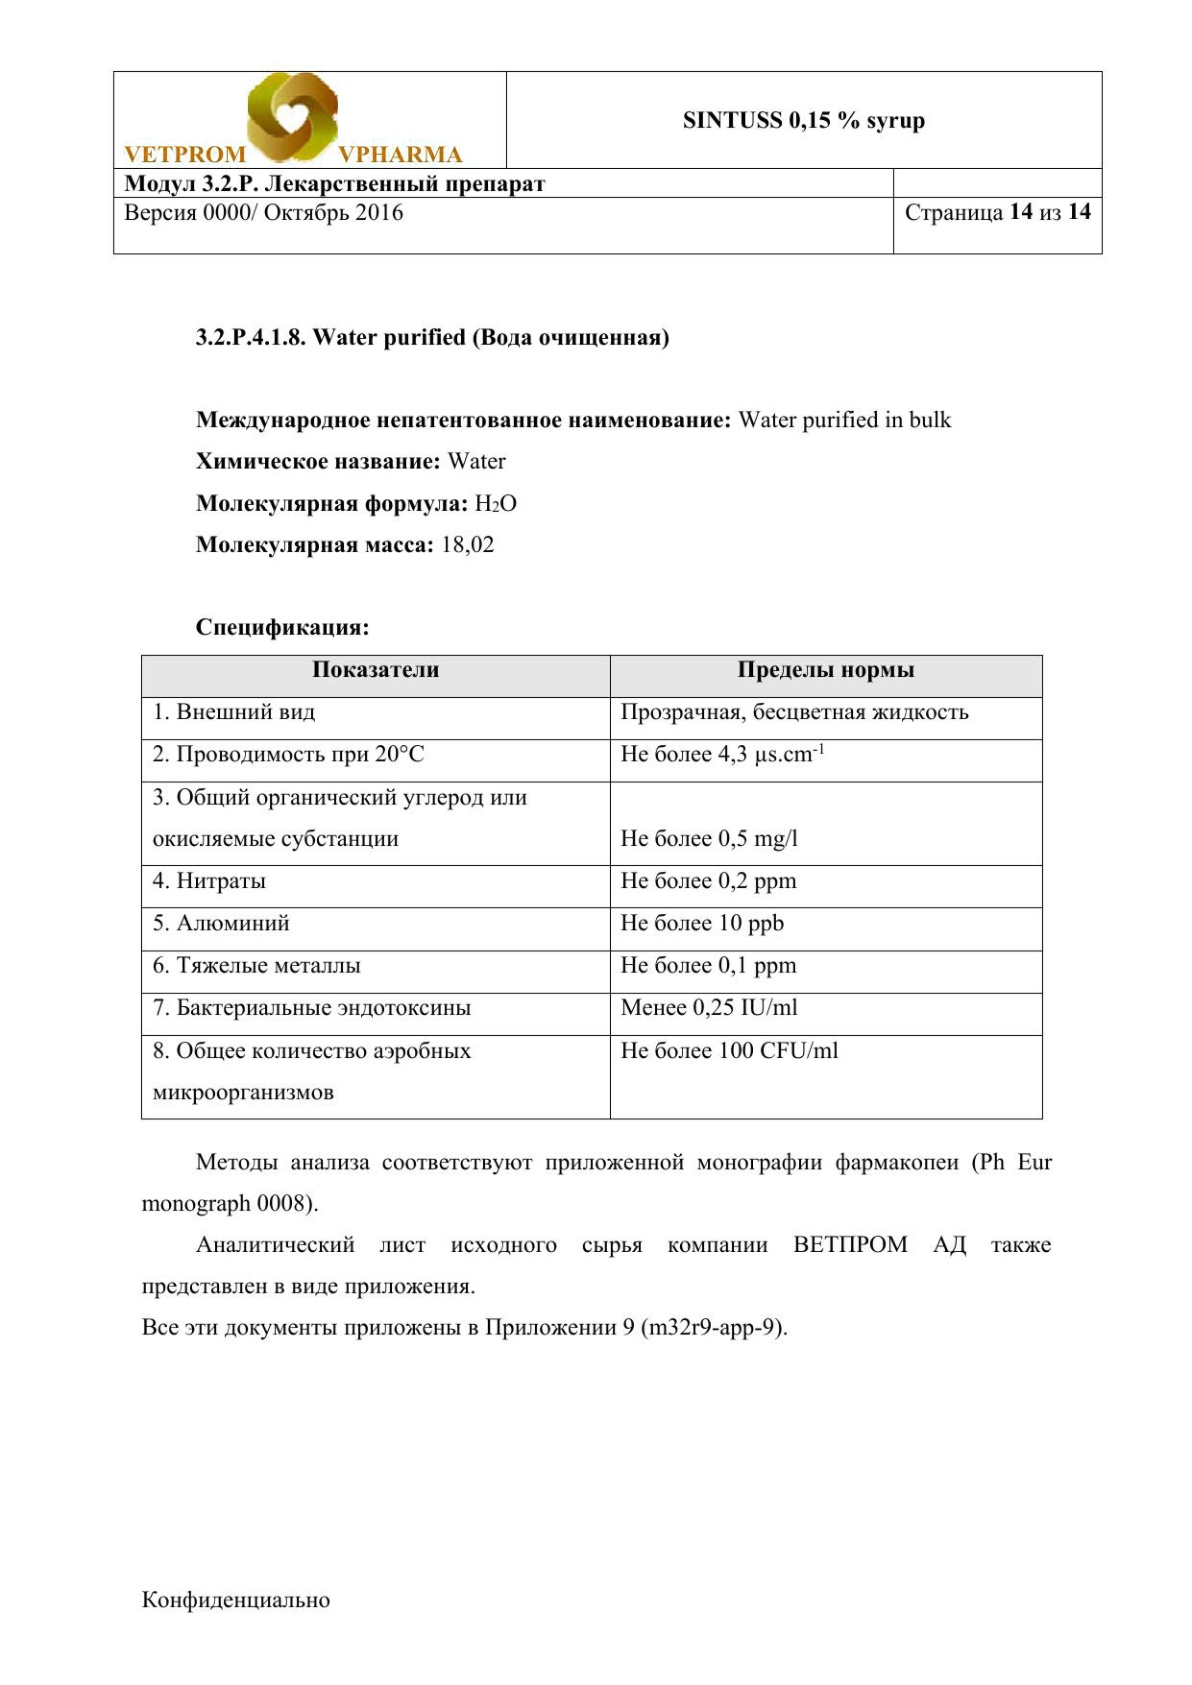full_lined: (141, 654, 1044, 1120)
merged_cells: (114, 70, 1103, 255)
